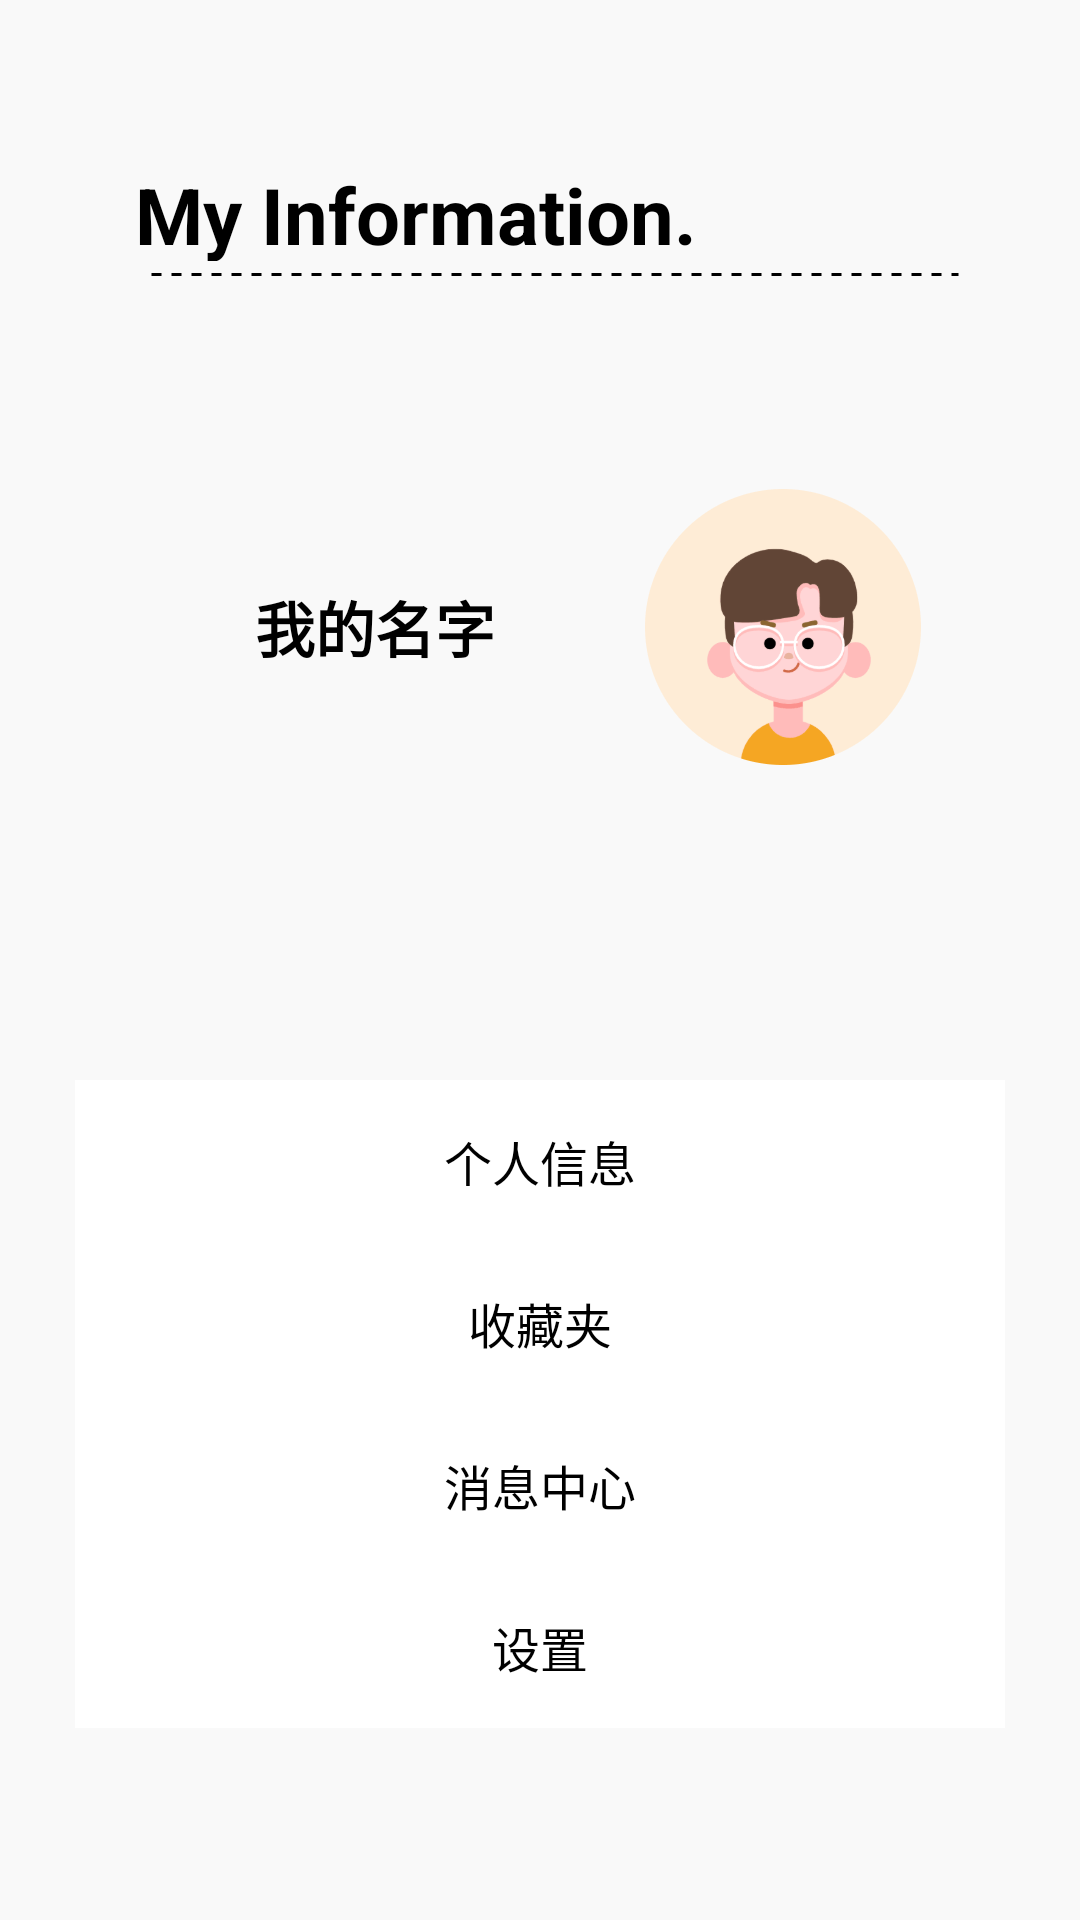

Named icons in this screenshot (1080 x 1920) and their bounding boxes, Rect(x1, y1, x2, y2):
info male: Rect(645, 489, 921, 765)
